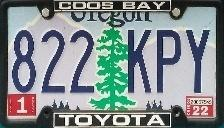2: (68, 30, 97, 95), (39, 30, 67, 94)
8: (12, 29, 38, 93)
K: (125, 27, 153, 96)
P: (155, 28, 182, 96)
Y: (183, 28, 212, 95)
